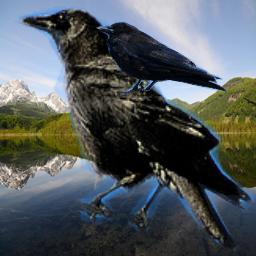Crow: (10, 5, 255, 253), (95, 21, 228, 95)
